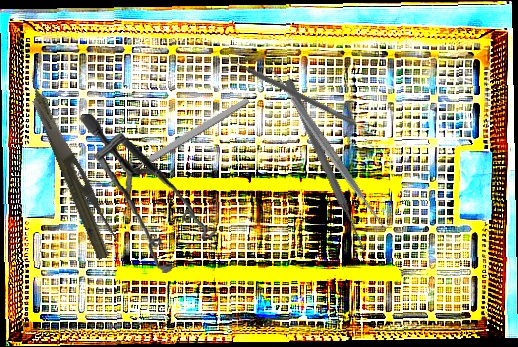Dressing Forceps: (28, 96, 125, 246)
Handpiece: (16, 59, 118, 262)
Pusher: (282, 77, 370, 255)
Spatula Surgical: (256, 54, 396, 239), (225, 52, 359, 126)
Speculum: (78, 105, 220, 279)
Surgical Spoon: (106, 95, 251, 189)
